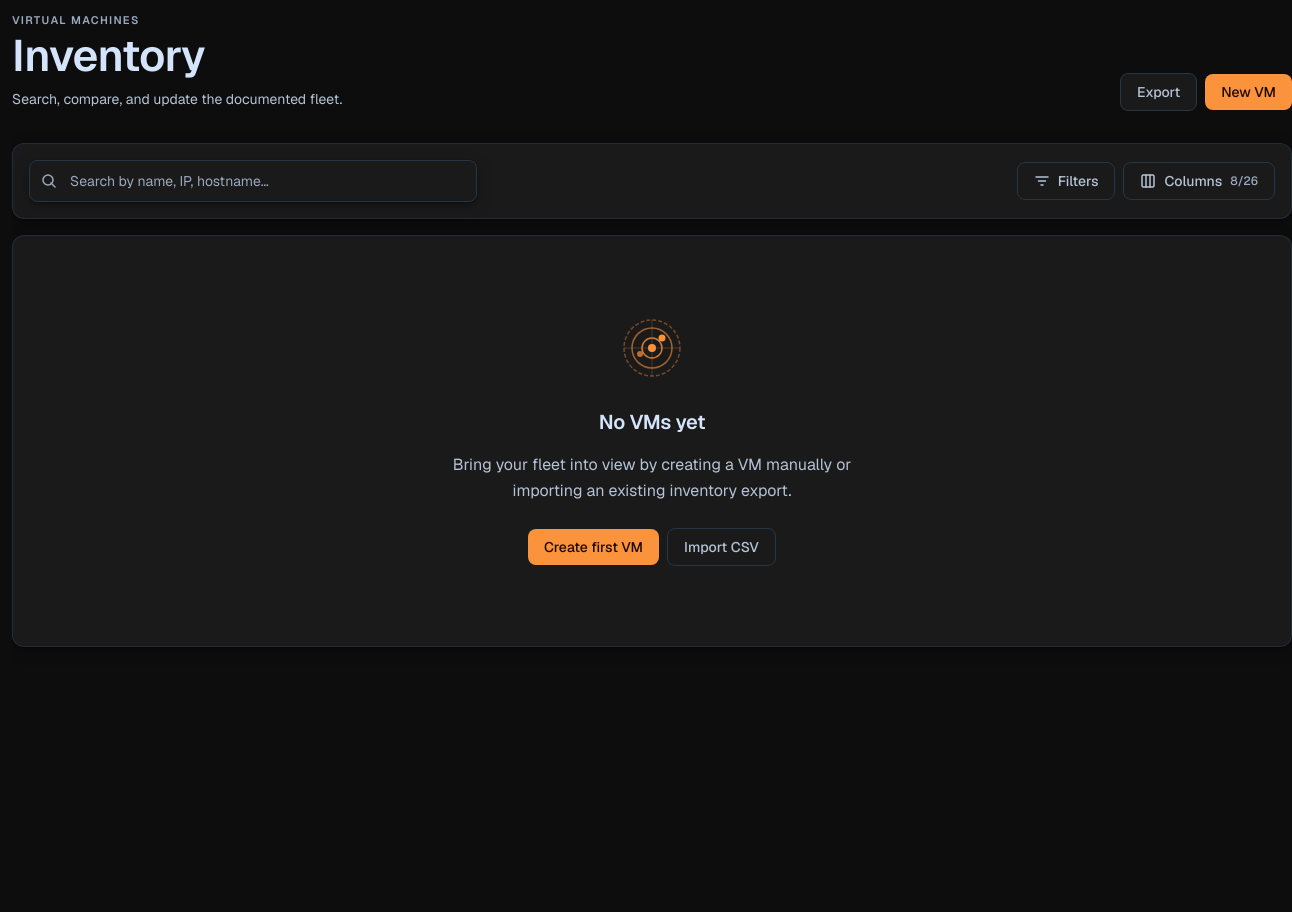
InventoryPage › clears a typed search term from the search field itself, not "Clear all"
Check: the heading "No VMs yet" is shown, box [599,408,705,436]
Check: the button "Clear all" is not shown
Type "web" into the search field named "Search VMs" at (253, 181), box [29,160,477,202]
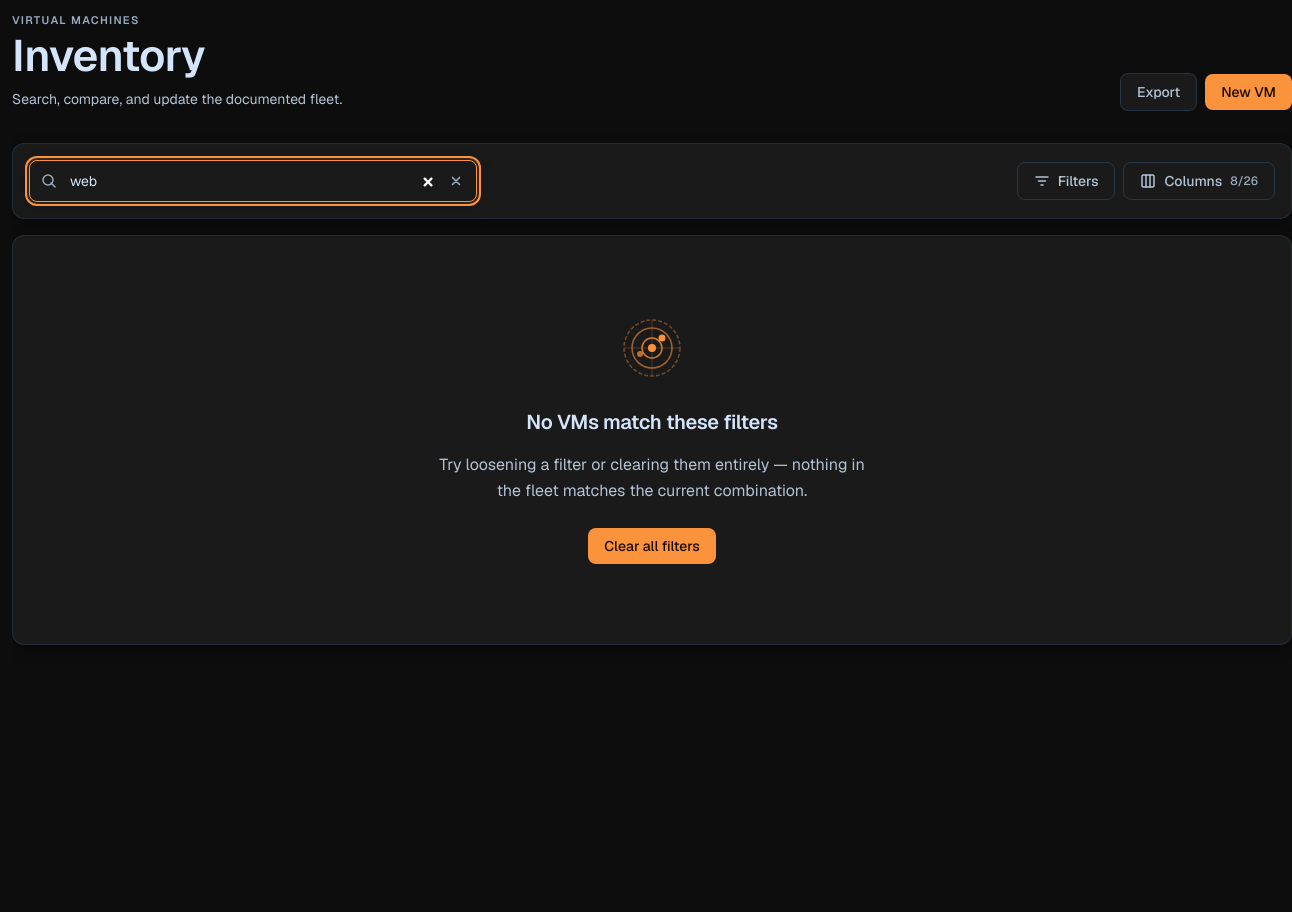
Click the button named "Clear search" at (456, 181), box [447,172,465,190]
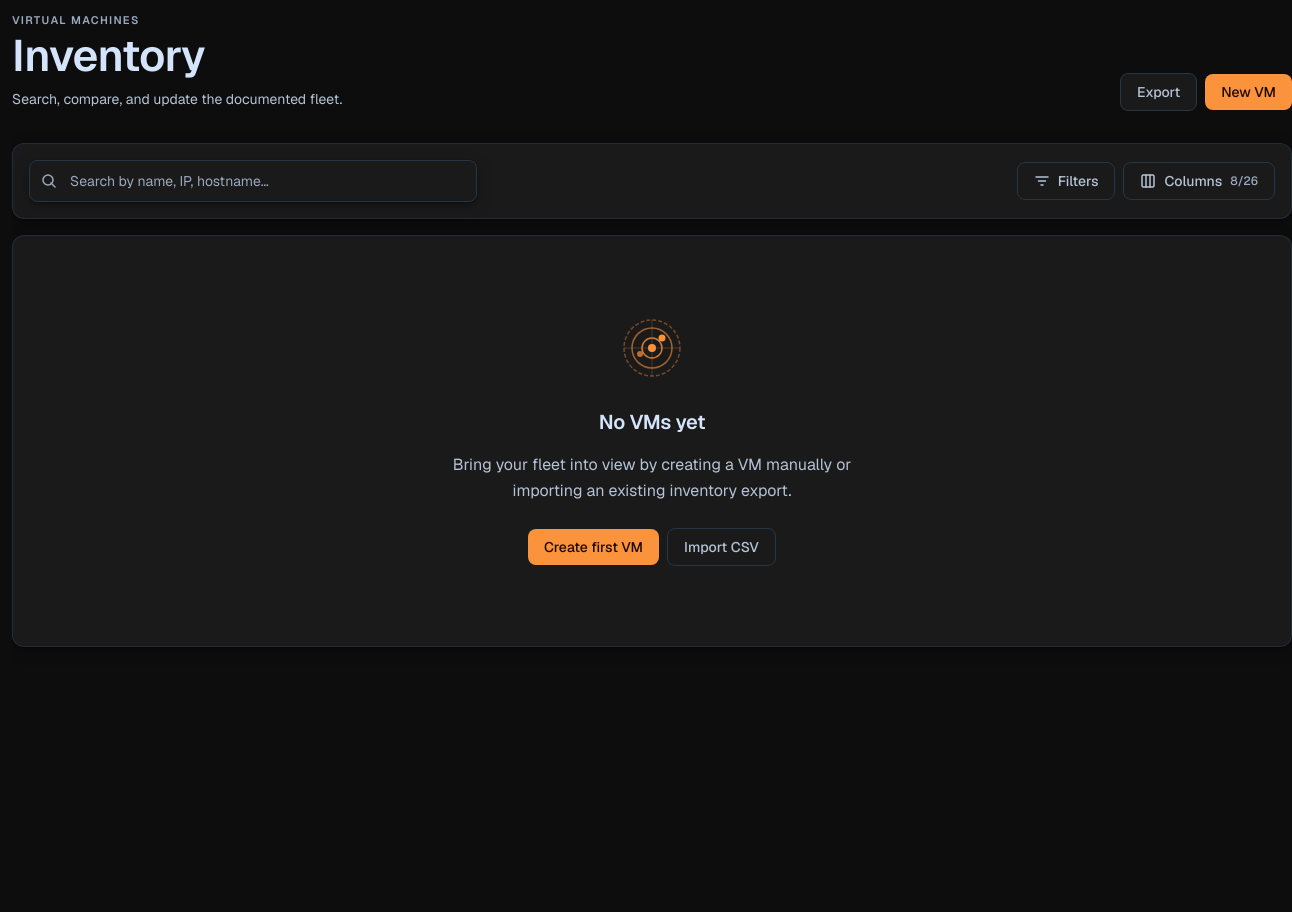
Check: the search field named "Search VMs" is empty, box [29,160,477,202]
